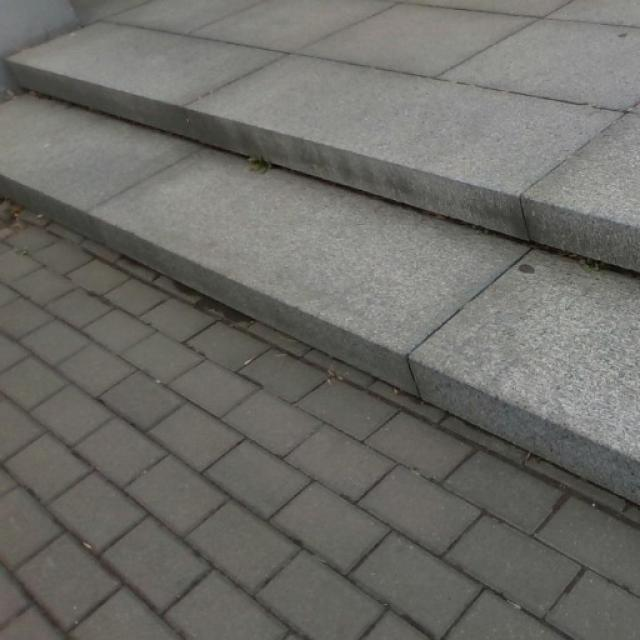Stairs: (0, 0, 639, 512)
